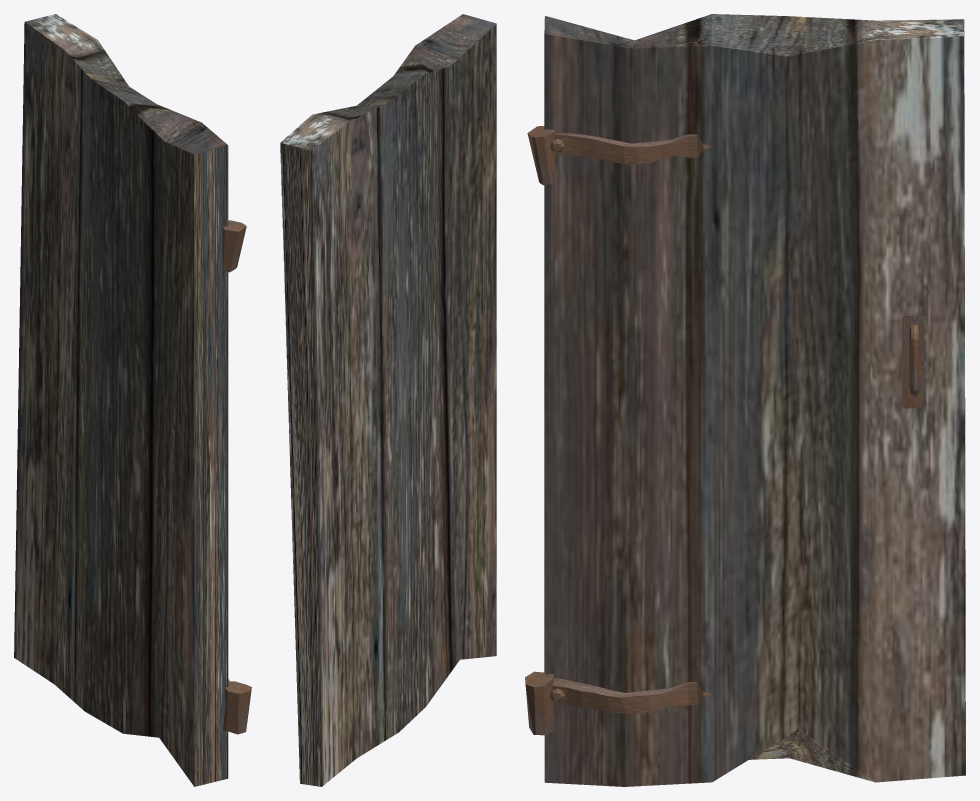
Rendered from shackdoor.fbx.
3 views of the same model, side by side, from view 1: azimuth 30°, elevation 25°; view 2: azimuth 150°, elevation 25°; view 3: azimuth 270°, elevation 25° (orthographic). The views are drawn at different scales.
Visible parts, largest first — view 1: Cube, Cube.003, Cube.002; view 2: Cube; view 3: Cube, Cube.003, Cube.002, Cube.001.
Boxes of the visible parts, <box> form: Cube: <box>14,14,228,786</box>; Cube.003: <box>223,679,251,734</box>; Cube.002: <box>222,220,246,272</box>; Cube: <box>280,14,496,786</box>; Cube: <box>544,14,965,786</box>; Cube.003: <box>525,671,711,735</box>; Cube.002: <box>527,126,711,185</box>; Cube.001: <box>902,314,923,408</box>.
Size of the model in its own units: 22.59 by 226 by 121.
3 materials, 3 textured.
